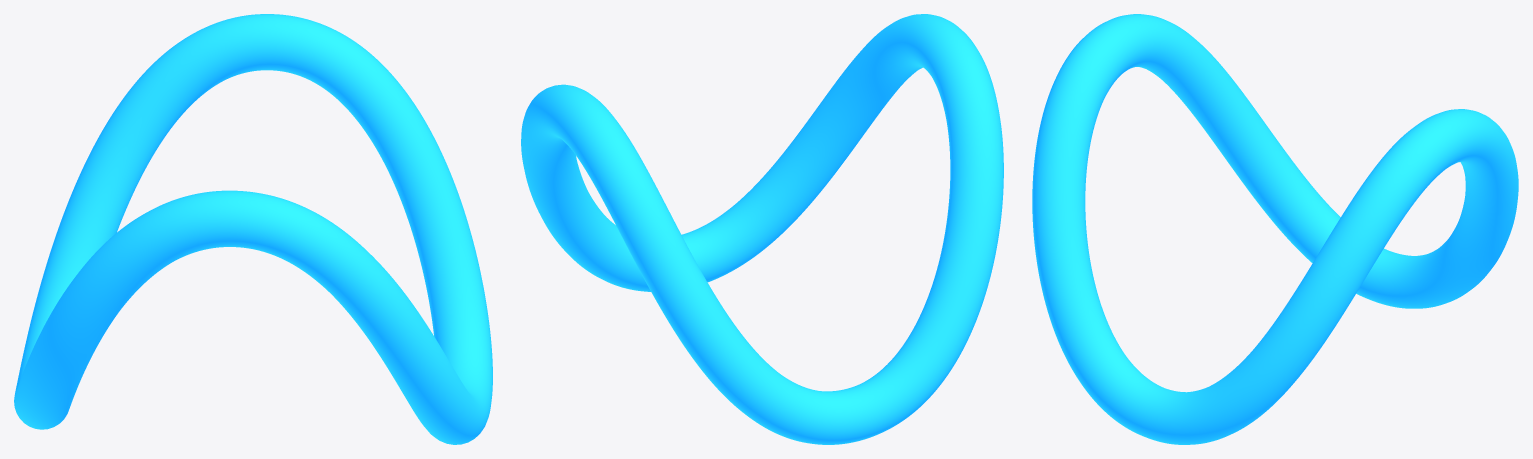
Rendered from infinite.glb.
3 renders of one model, left to right at view 1: azimuth 30°, elevation 25°; view 2: azimuth 150°, elevation 25°; view 3: azimuth 270°, elevation 25°, orthographic. The views are drawn at different scales.
Parts seen in each view (by area): view 1: BezierCircle.001_3; view 2: BezierCircle.001_3; view 3: BezierCircle.001_3.
Part boxes in pixels (x1,y1,x2,y2): BezierCircle.001_3: (14, 14, 492, 444); BezierCircle.001_3: (521, 14, 1003, 444); BezierCircle.001_3: (1032, 14, 1518, 444).
Size of the model in its own units: 2.26 by 1.54 by 2.26.
